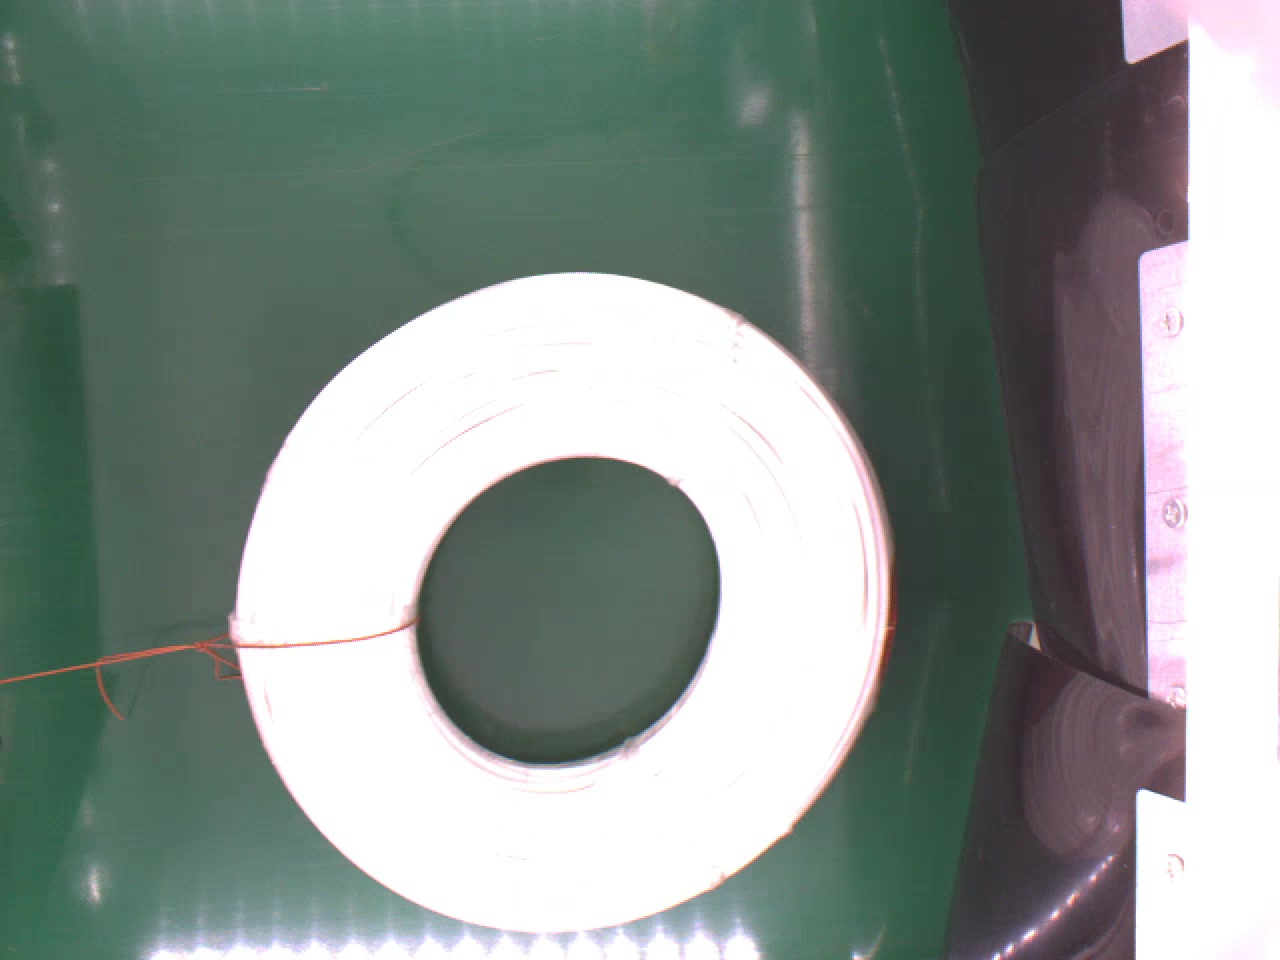white: (228, 263, 910, 935)
